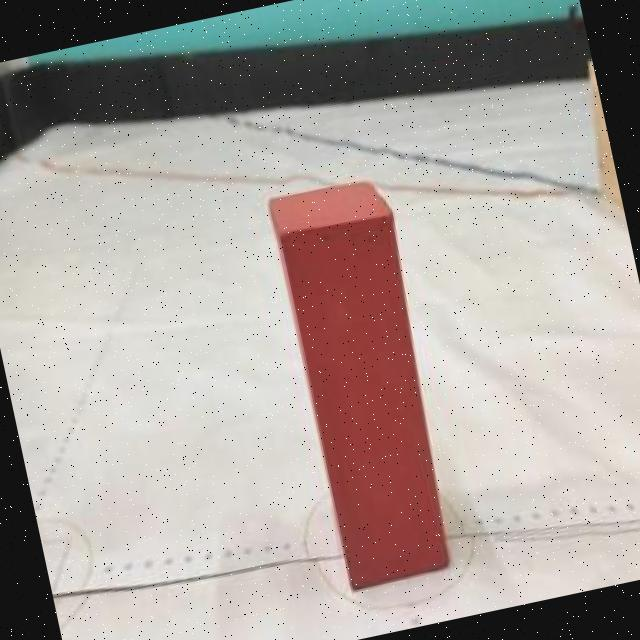redbox: (264, 178, 454, 590)
